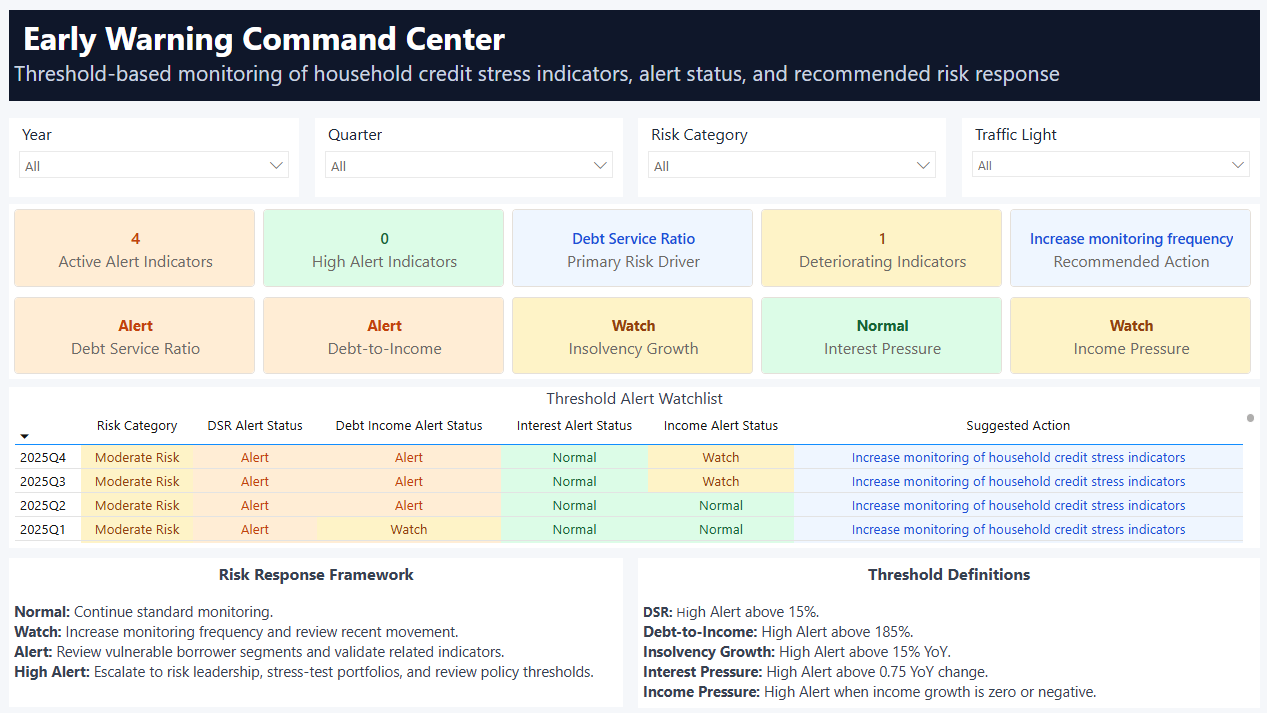

The page's visual inventory and layout, read from the dashboard file:
{"tool":"powerbi","page":{"name":"Early Warning Command Center","canvas":[1280,720],"ordinal":2},"visuals":[{"type":"shape","box":[19.5,11.9,1250.8,90.8],"z":0},{"type":"textbox","box":[19.5,11.9,1250.8,90.8],"z":1000},{"type":"slicer","fields":{"Values":["powerbi_canada_credit_risk_dashboard.year"]},"box":[19.5,120,289.7,78.9],"z":2000},{"type":"slicer","fields":{"Values":["powerbi_canada_credit_risk_dashboard.risk_category"]},"box":[581.3,539.9,308,78.9],"z":3000},{"type":"slicer","fields":{"Values":["powerbi_canada_credit_risk_dashboard.risk_traffic_light"]},"box":[971.9,120,298.4,78.9],"z":4000},{"type":"slicer","fields":{"Values":["powerbi_canada_credit_risk_dashboard.date.Variation.Date Hierarchy.Quarter"]},"box":[325.4,120,307.6,78.8],"z":5000},{"type":"cardVisual","fields":{"Data":["powerbi_canada_credit_risk_dashboard.Latest Active Alert Count","powerbi_canada_credit_risk_dashboard.Latest High Alert Count","powerbi_canada_credit_risk_dashboard.Primary Risk Driver","powerbi_canada_credit_risk_dashboard.Latest Deteriorating Indicator Count","powerbi_canada_credit_risk_dashboard.Latest Command Center Action"]},"box":[19.2,206,1251.1,87.6],"z":6000},{"type":"cardVisual","fields":{"Data":["powerbi_canada_credit_risk_dashboard.Latest DSR Status","powerbi_canada_credit_risk_dashboard.Latest Debt Income Status","powerbi_canada_credit_risk_dashboard.Latest Insolvency Status","powerbi_canada_credit_risk_dashboard.Latest Interest Status","powerbi_canada_credit_risk_dashboard.Latest Income Status"]},"box":[19.2,293.5,1251.1,87.6],"z":7000},{"type":"tableEx","title":"Threshold Alert Watchlist","fields":{"Values":["powerbi_canada_credit_risk_dashboard.quarter","powerbi_canada_credit_risk_dashboard.risk_category","powerbi_canada_credit_risk_dashboard.DSR Alert Status","powerbi_canada_credit_risk_dashboard.Debt Income Alert Status","powerbi_canada_credit_risk_dashboard.Interest Alert Status","powerbi_canada_credit_risk_dashboard.Income Alert Status","powerbi_canada_credit_risk_dashboard.suggested_action"]},"box":[19.2,388.8,1251.1,160.7],"z":8000},{"type":"textbox","box":[19.2,560.1,614,149.2],"z":8001},{"type":"textbox","box":[647.7,560.1,622.7,150.1],"z":8002}]}

Visuals, with their boxes in screenshot pixels (x1, y1, x2, y2), scaled from the page's 1280x720 canvas onto the 1267x713 screenshot:
shape: 19,12,1257,102
textbox: 19,12,1257,102
slicer - powerbi_canada_credit_risk_dashboard.year: 19,119,306,197
slicer - powerbi_canada_credit_risk_dashboard.risk_category: 575,535,880,613
slicer - powerbi_canada_credit_risk_dashboard.risk_traffic_light: 962,119,1257,197
slicer - powerbi_canada_credit_risk_dashboard.date.Variation.Date Hierarchy.Quarter: 322,119,627,197
cardVisual - powerbi_canada_credit_risk_dashboard.Latest Active Alert Count x powerbi_canada_credit_risk_dashboard.Latest High Alert Count: 19,204,1257,291
cardVisual - powerbi_canada_credit_risk_dashboard.Latest DSR Status x powerbi_canada_credit_risk_dashboard.Latest Debt Income Status: 19,291,1257,377
"Threshold Alert Watchlist" tableEx: 19,385,1257,544
textbox: 19,555,627,702
textbox: 641,555,1257,703
